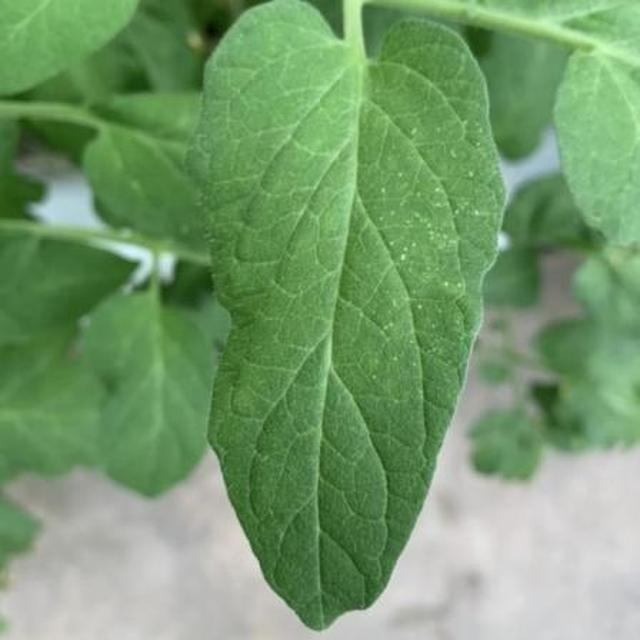Spider Mites Leaf: (298, 130, 640, 640)
